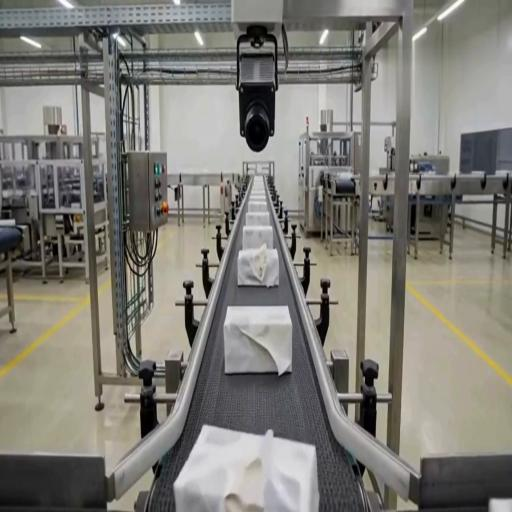defective: (175, 422, 317, 511), (223, 302, 299, 382), (236, 246, 280, 288)
good: (242, 225, 274, 252), (244, 211, 271, 227), (246, 200, 270, 212)
